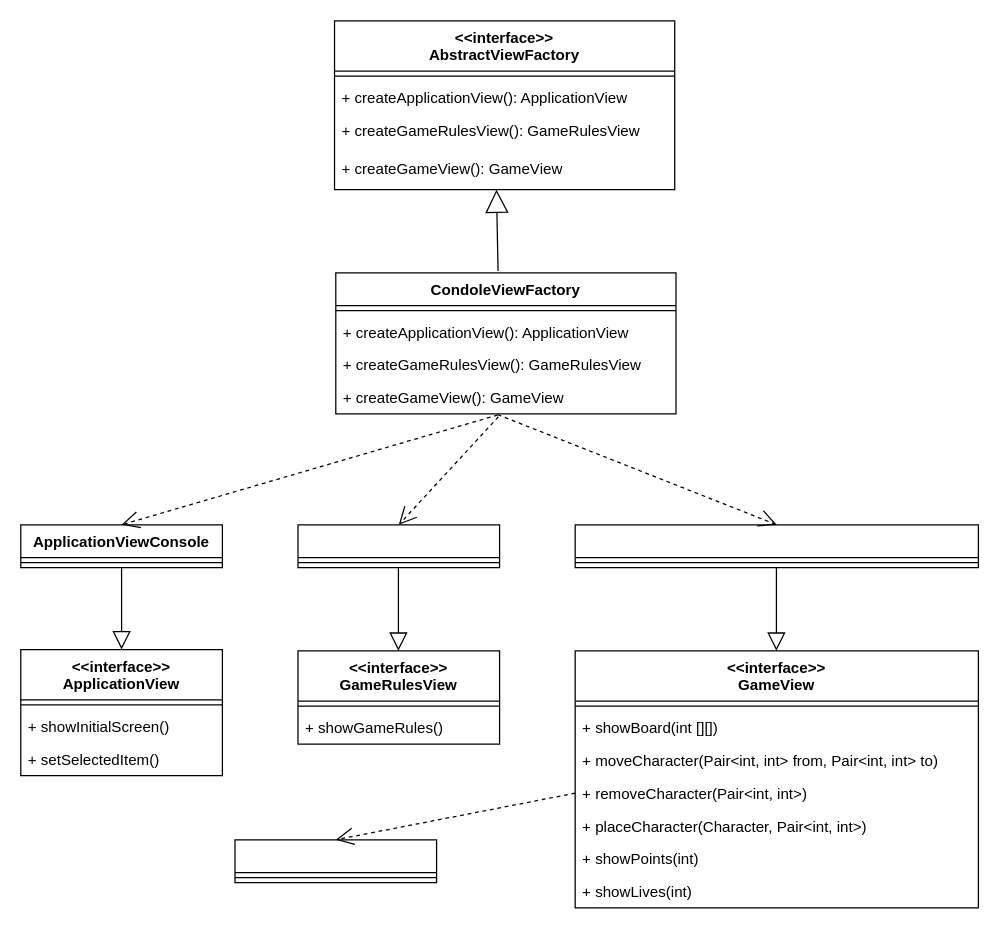
The diagram is 999 pixels wide and 929 high, and some of its shapes have lost their labels. Here are the shapes that lost their labels. From the top down, the box of each, then its label:
(297, 524, 500, 568): GameRulesViewConsole
(574, 524, 978, 568): GameViewConsole
(234, 839, 437, 883): Character
